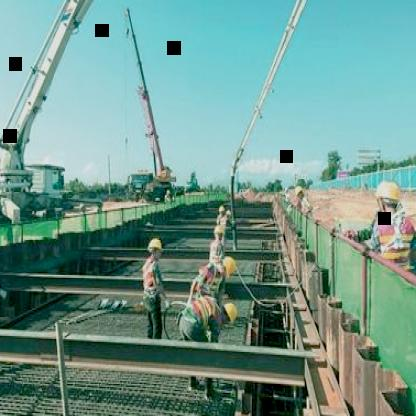helmet: (373, 178, 403, 222), (217, 255, 241, 279), (145, 236, 165, 262), (219, 300, 238, 324), (211, 224, 226, 243)
